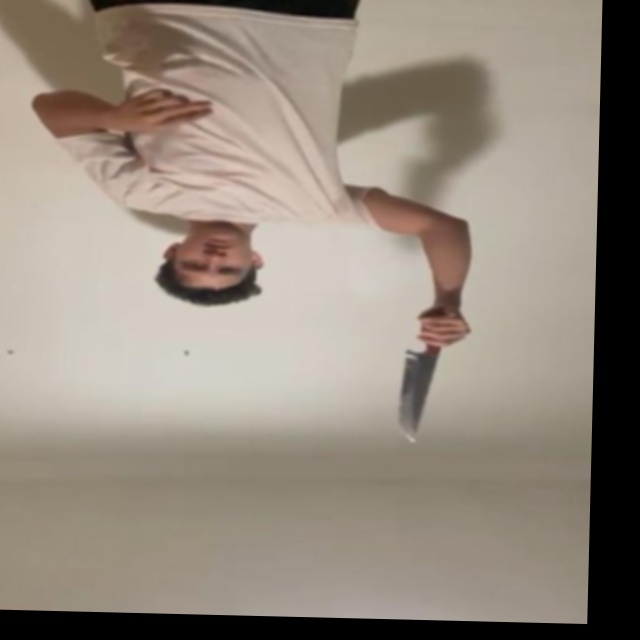Sharp-Object: (392, 352, 434, 445)
